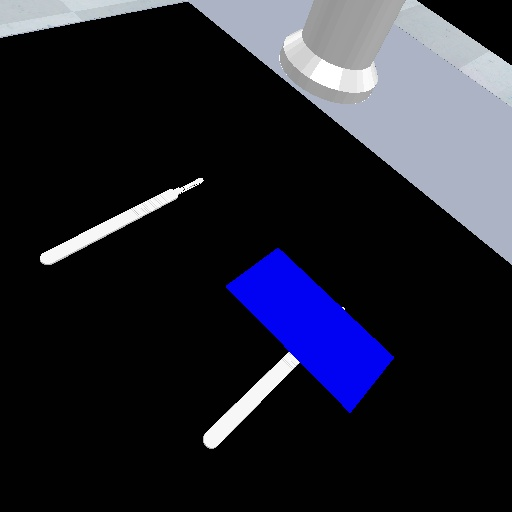bisturi: (37, 168, 207, 271), (199, 348, 303, 450)
